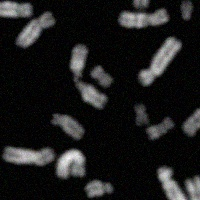chromosome: (70, 44, 105, 108), (137, 36, 182, 85), (1, 143, 53, 168), (18, 12, 54, 48), (48, 110, 85, 143), (154, 167, 191, 200), (55, 148, 86, 183), (117, 8, 168, 29), (91, 62, 115, 87), (0, 0, 31, 19), (84, 179, 111, 200), (184, 100, 200, 134), (148, 119, 173, 139), (178, 3, 196, 25), (186, 176, 200, 200), (133, 105, 146, 128), (129, 0, 151, 7)
